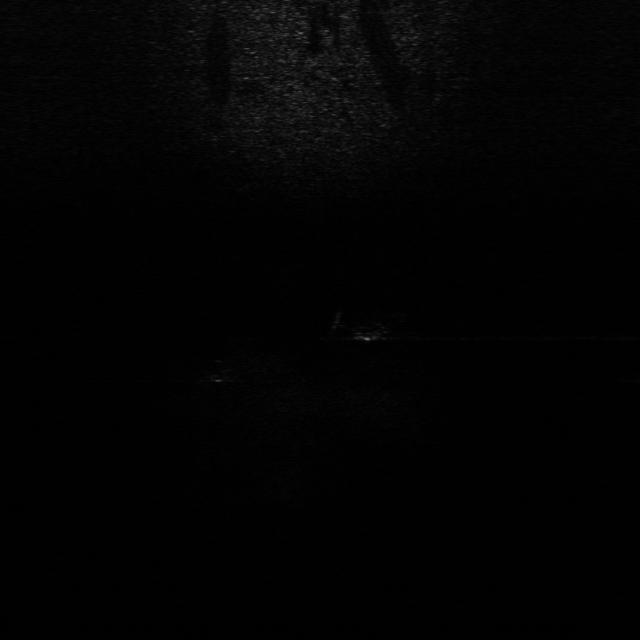ball: (197, 354, 239, 384)
human body: (334, 308, 410, 346)
